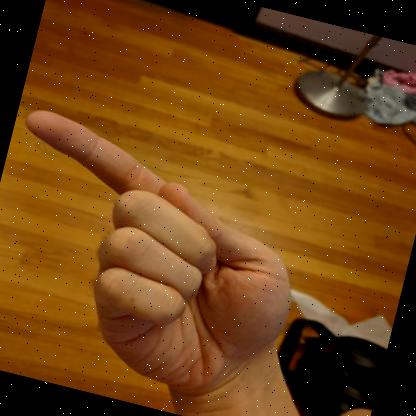G: (25, 110, 292, 416)
